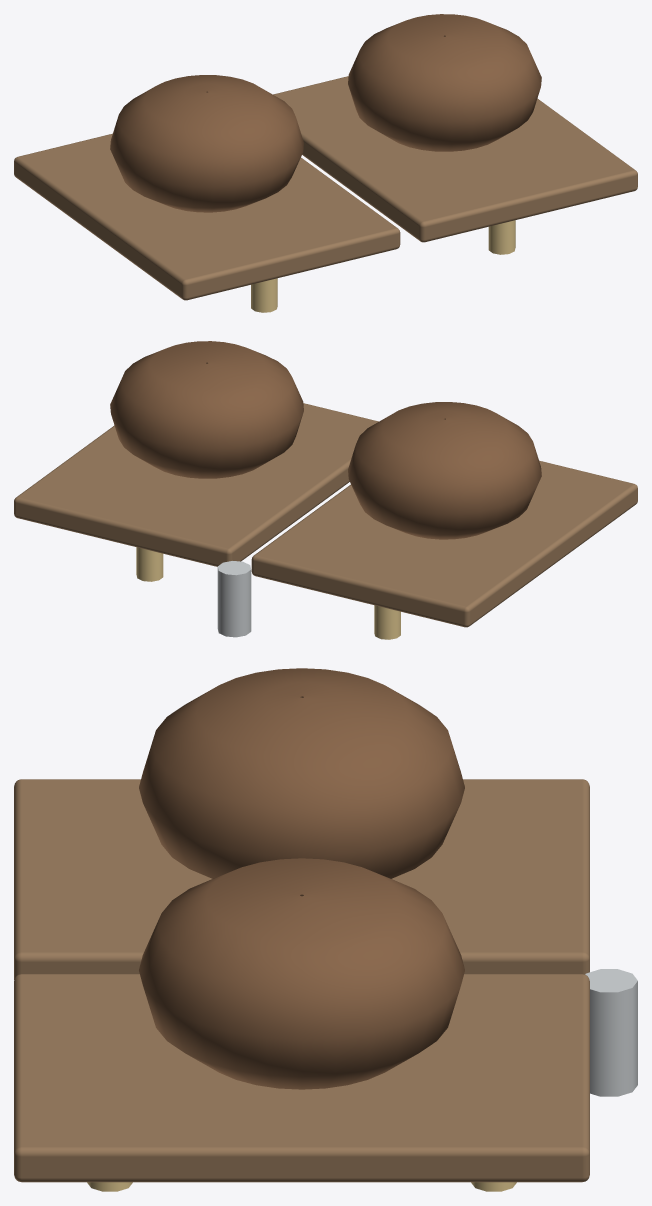
Rendered from chocolate-making-and-confectionery-sculptural-hollow-e-f9146db8__39153.glb.
3 renders of one model, top to bottom at view 1: azimuth 30°, elevation 25°; view 2: azimuth 150°, elevation 25°; view 3: azimuth 270°, elevation 25°, orthographic. The views are drawn at different scales.
Parts seen in each view (by area): view 1: sculptural-hollow-egg-mould; view 2: sculptural-hollow-egg-mould; view 3: sculptural-hollow-egg-mould.
Part boxes in pixels (x1,y1,x2,y2): sculptural-hollow-egg-mould: (14,14,637,312); sculptural-hollow-egg-mould: (14,341,637,639); sculptural-hollow-egg-mould: (14,668,637,1191).
Size of the model in its own units: 0.46 by 0.167 by 0.325.
